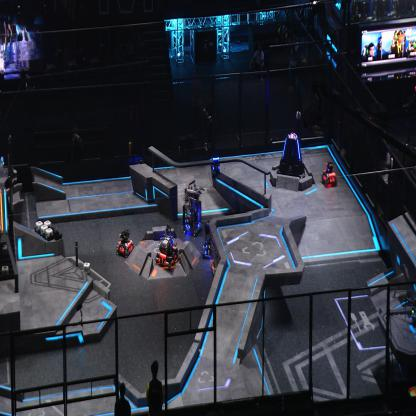car: (182, 182, 204, 236), (210, 234, 232, 276), (154, 233, 180, 268), (201, 218, 221, 258), (114, 228, 136, 256), (320, 160, 338, 186), (158, 225, 176, 250), (134, 155, 149, 175)
